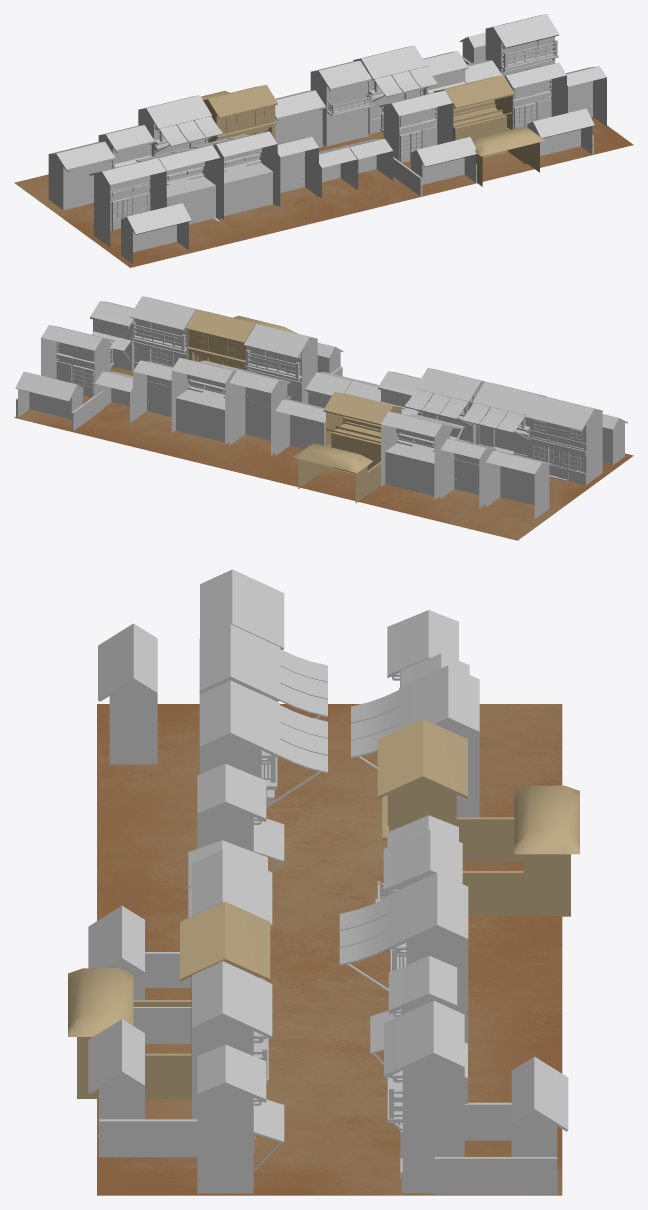
The picture shows the model from 3 angles, top to bottom: view 1: azimuth 30°, elevation 25°; view 2: azimuth 150°, elevation 25°; view 3: azimuth 270°, elevation 25°; orthographic projection. The views are drawn at different scales.
Visible parts, largest first — view 1: Box001, Box008, Shop002, B005, Inn, Shop003, A003, Shop001, A1, Shop, Restaurant001, Box006 (+13 smaller); view 2: Box001, Box006, B005, Shop, Shop001, A003, Shop003, A1, A005, Inn, Shop002, Box008 (+12 smaller); view 3: Box001, Box006, Box008, A1, A0, Shop001, Pharmacy002, Shop002, A004, Shop, B006, Shop003 (+11 smaller).
Part boxes in pixels (x1=…): Box001: x1=14, y1=117, x2=633, y2=267; Box008: x1=433, y1=75, x2=545, y2=186; Shop002: x1=193, y1=131, x2=277, y2=219; B005: x1=89, y1=158, x2=166, y2=247; Inn: x1=310, y1=60, x2=373, y2=146; Shop003: x1=135, y1=145, x2=220, y2=224; A003: x1=379, y1=90, x2=452, y2=162; Shop001: x1=353, y1=45, x2=437, y2=134; A1: x1=485, y1=14, x2=559, y2=75; Shop: x1=138, y1=95, x2=223, y2=156; Restaurant001: x1=48, y1=141, x2=115, y2=210; Box006: x1=201, y1=85, x2=277, y2=142; Box001: x1=14, y1=366, x2=633, y2=540; Box006: x1=292, y1=392, x2=404, y2=502; B005: x1=525, y1=395, x2=602, y2=484; Shop: x1=381, y1=411, x2=465, y2=499; Shop001: x1=171, y1=358, x2=255, y2=444; A003: x1=244, y1=324, x2=317, y2=403; Shop003: x1=461, y1=381, x2=546, y2=457; A1: x1=41, y1=325, x2=114, y2=397; A005: x1=129, y1=296, x2=201, y2=369; Inn: x1=229, y1=370, x2=290, y2=455; Shop002: x1=404, y1=368, x2=486, y2=443; Box008: x1=185, y1=310, x2=296, y2=370; Box001: x1=97, y1=704, x2=562, y2=1195; Box006: x1=377, y1=719, x2=579, y2=916; Box008: x1=68, y1=901, x2=270, y2=1099; A1: x1=384, y1=1000, x2=464, y2=1192; A0: x1=434, y1=1056, x2=568, y2=1194; Shop001: x1=339, y1=872, x2=468, y2=1064; Pharmacy002: x1=197, y1=1044, x2=284, y2=1193; Shop002: x1=199, y1=680, x2=327, y2=807; A004: x1=88, y1=1019, x2=197, y2=1157; Shop: x1=351, y1=665, x2=479, y2=817; B006: x1=98, y1=623, x2=157, y2=764; Shop003: x1=199, y1=624, x2=327, y2=718.
Size of the model in its own units: 3000 by 403 by 1321.
